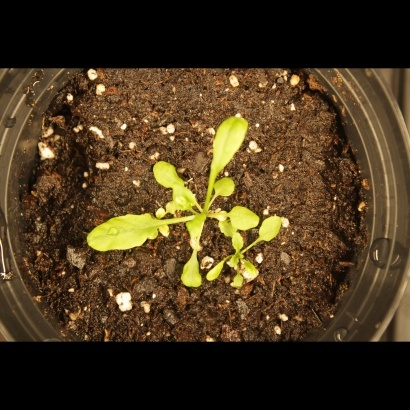leaf: (79, 209, 164, 253), (211, 110, 249, 178), (149, 154, 186, 192), (177, 246, 207, 292), (227, 204, 262, 235), (256, 216, 284, 243), (184, 211, 208, 242), (169, 190, 192, 213), (213, 176, 236, 199), (203, 260, 226, 283), (225, 230, 248, 253), (241, 254, 264, 277), (225, 271, 248, 294)
